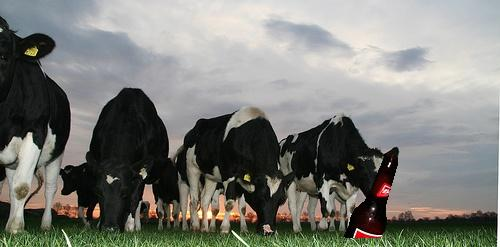tampered: (345, 155, 398, 238)
